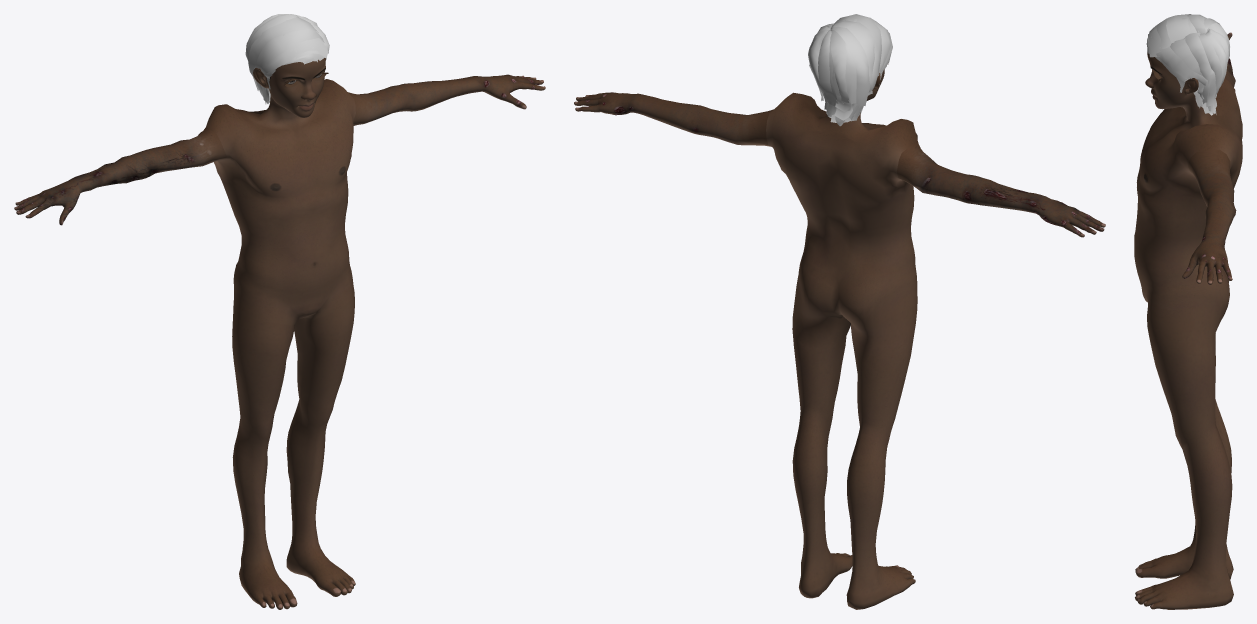
File: peliculahombre7.obj
3 views of the same model, side by side, from view 1: azimuth 30°, elevation 25°; view 2: azimuth 150°, elevation 25°; view 3: azimuth 270°, elevation 25° (orthographic).
Parts seen in each view (by area): view 1: Body, Hair; view 2: Body, Hair; view 3: Body, Hair.
Part boxes in pixels (x1=…): Body: x1=14, y1=58, x2=545, y2=609; Hair: x1=245, y1=14, x2=329, y2=104; Body: x1=574, y1=69, x2=1105, y2=609; Hair: x1=808, y1=14, x2=892, y2=126; Body: x1=1134, y1=32, x2=1242, y2=609; Hair: x1=1146, y1=14, x2=1229, y2=115.
Size of the model in its own units: 168 by 173 by 29.73.
